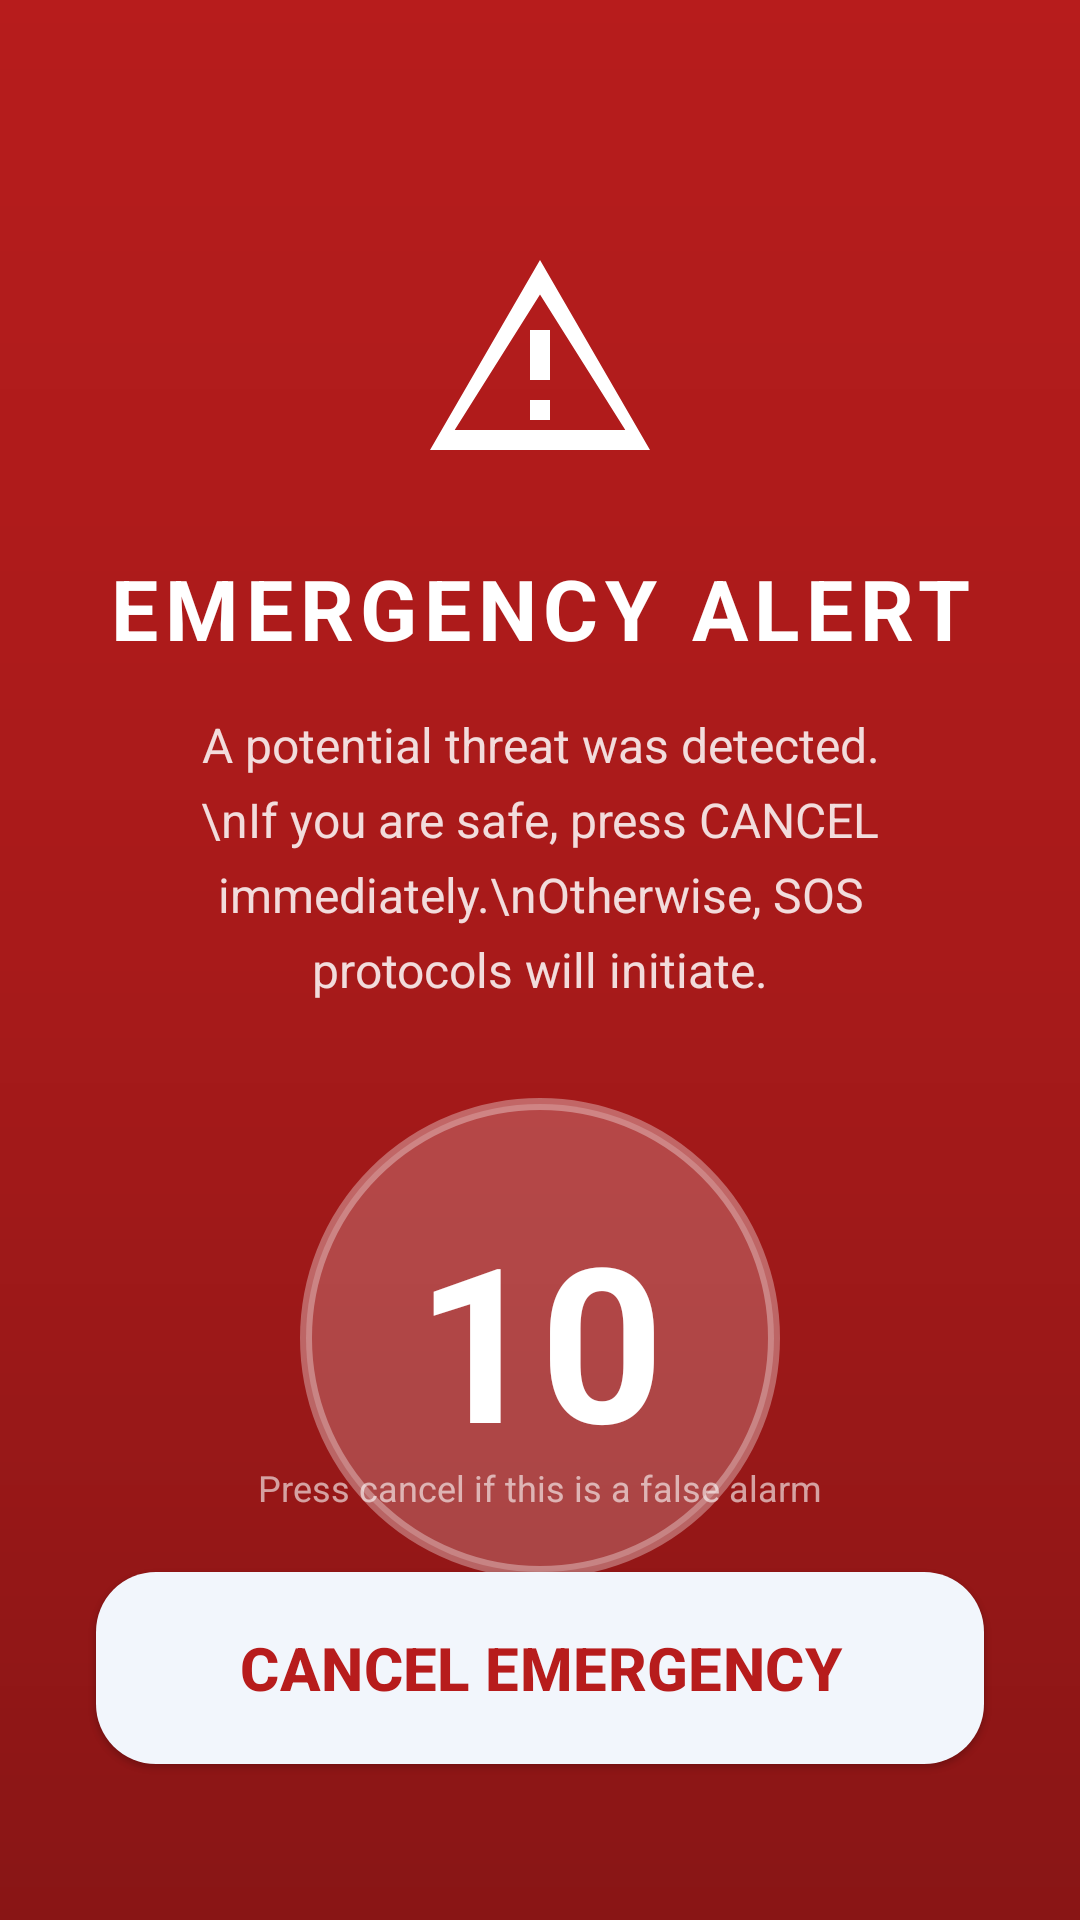

Icon bounding boxes for this 1080w x 1920h phone screenshot, format (x1, y1, x2, y2):
panic: (430, 260, 650, 450)
